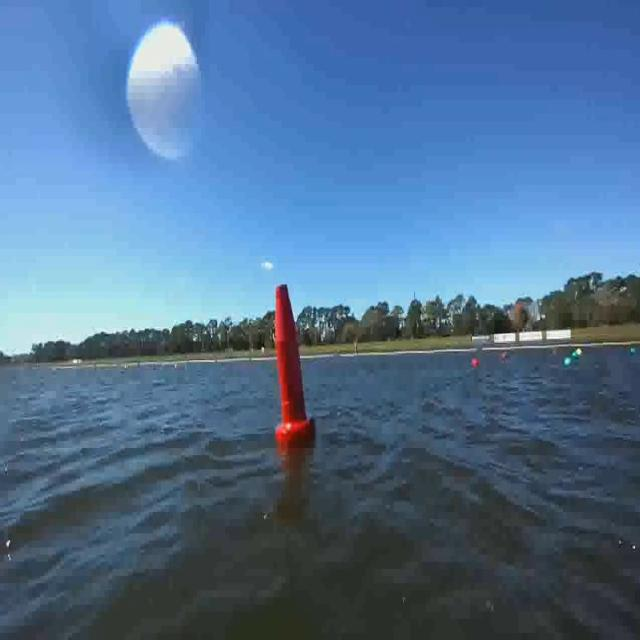green-buoy: (564, 356, 574, 372)
red-buoy: (469, 354, 481, 372)
red-column-buoy: (274, 279, 312, 445)
